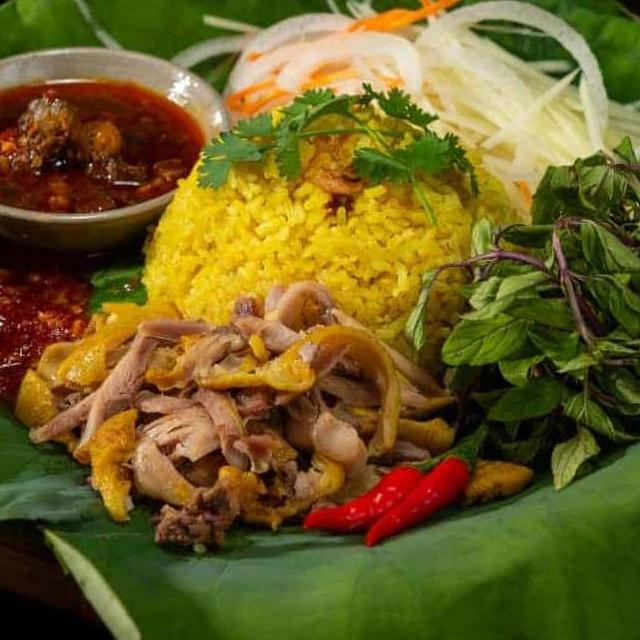com: (138, 90, 537, 375)
com ga: (0, 37, 640, 640)
rau ram: (396, 119, 640, 495)
thit ga: (8, 272, 470, 529)
